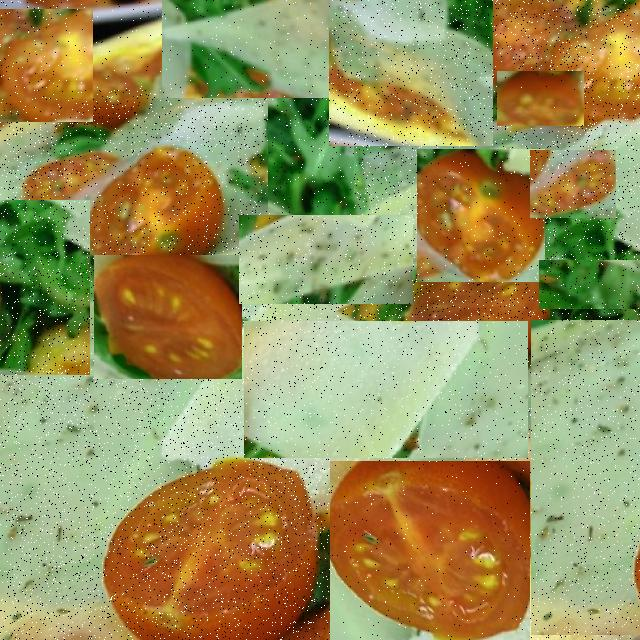Cheese: (244, 321, 528, 458), (531, 320, 640, 635), (329, 0, 493, 146), (162, 0, 340, 98), (239, 215, 413, 304), (72, 144, 230, 239)
Pizza: (0, 0, 640, 640)
Rucola: (0, 200, 90, 375), (268, 90, 354, 221), (539, 260, 640, 309), (257, 3, 313, 55)
Tomato: (330, 461, 530, 640), (94, 255, 242, 379), (417, 149, 545, 282), (0, 9, 93, 122), (68, 0, 166, 90), (530, 150, 616, 218), (497, 71, 584, 126)
